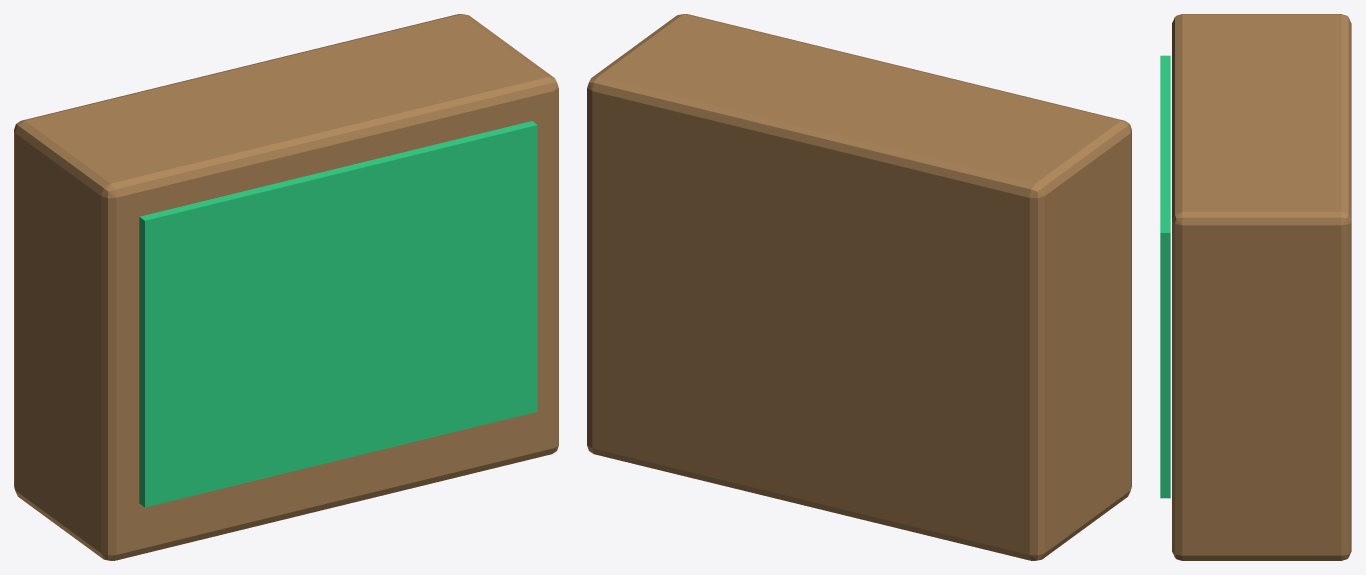
The model's file is CC_S16_P2_Product_VertexOne_Box_LOD0.fbx.
3 renders of one model, left to right at view 1: azimuth 30°, elevation 25°; view 2: azimuth 150°, elevation 25°; view 3: azimuth 270°, elevation 25°, orthographic. The views are drawn at different scales.
Parts seen in each view (by area): view 1: CC_S16_P2_Product_VertexOne_Box_LOD0_Box, CC_S16_P2_Product_VertexOne_Box_LOD0_FrontPanel; view 2: CC_S16_P2_Product_VertexOne_Box_LOD0_Box; view 3: CC_S16_P2_Product_VertexOne_Box_LOD0_Box, CC_S16_P2_Product_VertexOne_Box_LOD0_FrontPanel.
Boxes of the visible parts, <box> form: CC_S16_P2_Product_VertexOne_Box_LOD0_Box: <box>14,14,558,560</box>; CC_S16_P2_Product_VertexOne_Box_LOD0_FrontPanel: <box>139,121,537,507</box>; CC_S16_P2_Product_VertexOne_Box_LOD0_Box: <box>587,14,1131,560</box>; CC_S16_P2_Product_VertexOne_Box_LOD0_Box: <box>1172,14,1351,560</box>; CC_S16_P2_Product_VertexOne_Box_LOD0_FrontPanel: <box>1160,55,1170,498</box>.
Size of what is drawn, in the model's own units: 0.38 by 0.3 by 0.149.
